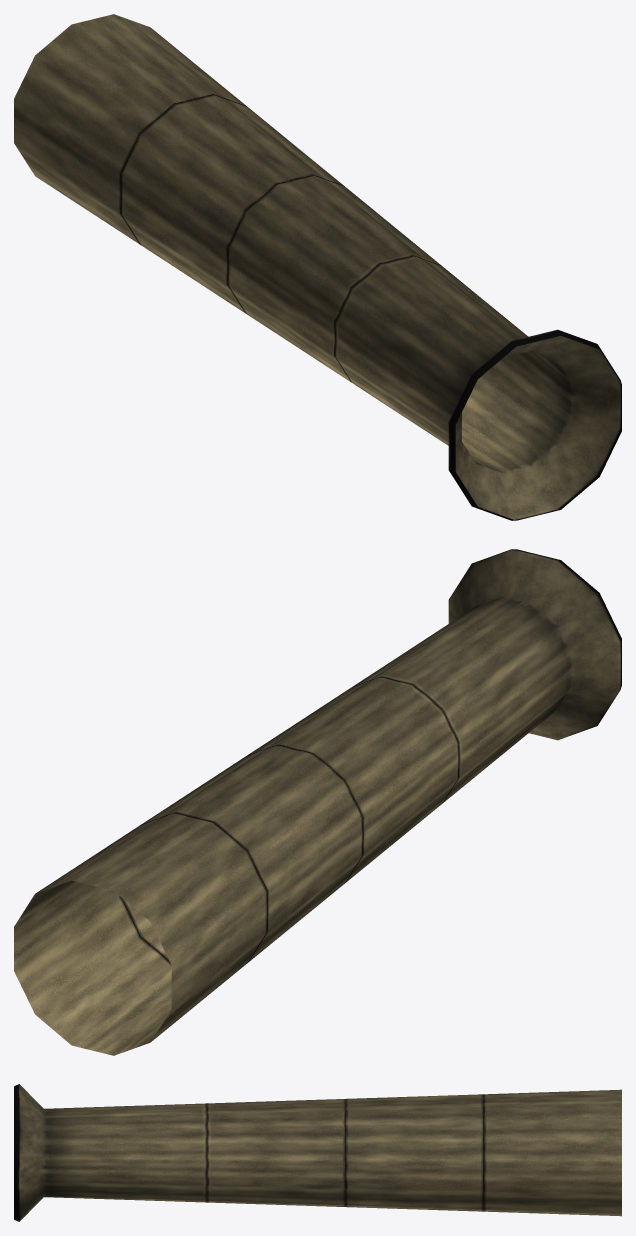
File: NormalTest_Pillar_01.obj
The picture shows the model from 3 angles, top to bottom: view 1: azimuth 30°, elevation 25°; view 2: azimuth 150°, elevation 25°; view 3: azimuth 270°, elevation 25°; orthographic projection. The views are drawn at different scales.
Parts seen in each view (by area): view 1: Circle; view 2: Circle; view 3: Circle.
Boxes of the visible parts, x1,y1,x2,y2 form: Circle: (14, 14, 621, 520); Circle: (14, 549, 621, 1055); Circle: (14, 1084, 621, 1221).
Bounding box in the file's own units: 0.8604 × 0.8604 × 3.86.
